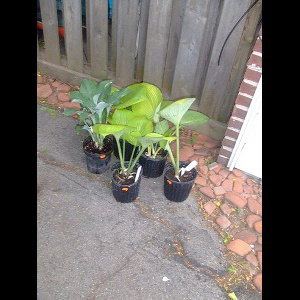flowerpot: (162, 160, 196, 202), (110, 161, 143, 203), (83, 132, 113, 174), (139, 145, 167, 179)
